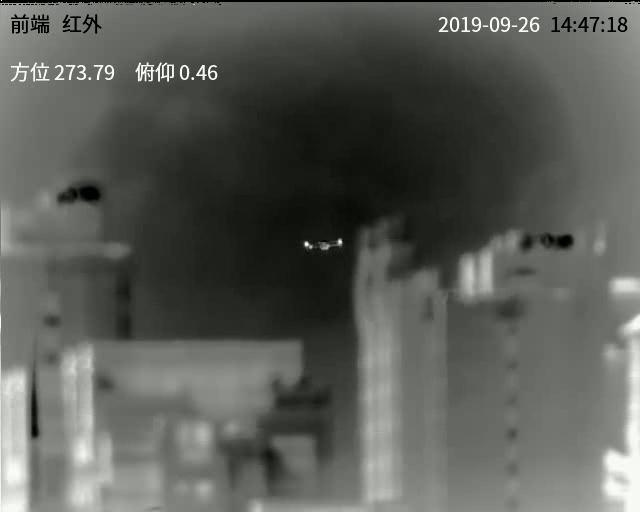DRONE: (303, 236, 344, 253)
